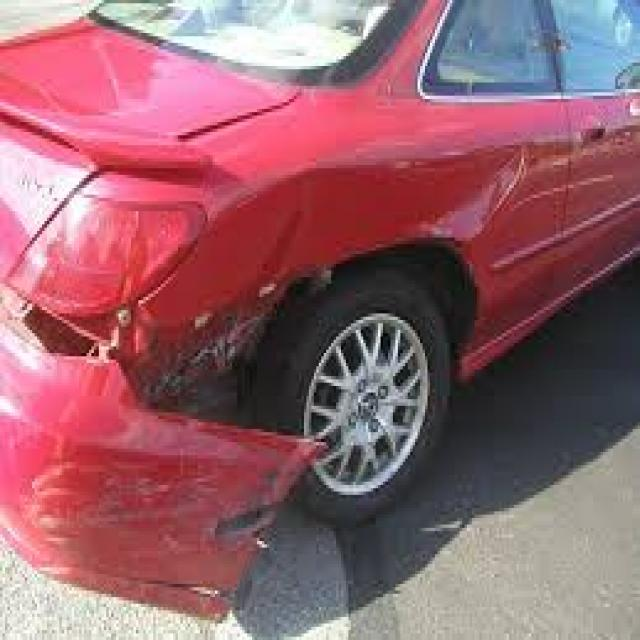minor: (27, 120, 522, 590)
